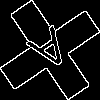A: (25, 25, 79, 82)
